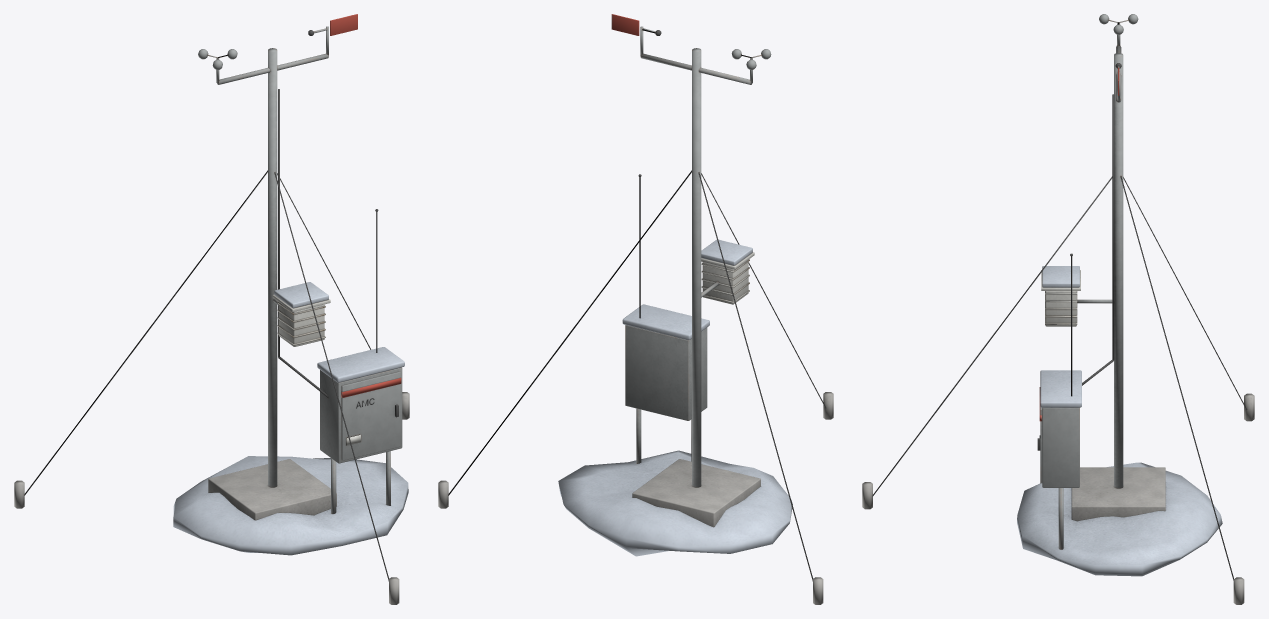
The model's file is ams_post.glb.
The picture shows the model from 3 angles, left to right: view 1: azimuth 30°, elevation 25°; view 2: azimuth 150°, elevation 25°; view 3: azimuth 270°, elevation 25°; orthographic projection.
Visible parts, largest first — view 1: ams_post; view 2: ams_post; view 3: ams_post.
Part boxes in pixels (<box>): ams_post: <box>14,14,409,604</box>; ams_post: <box>438,14,833,604</box>; ams_post: <box>862,14,1254,604</box>.
Size of the model in its own units: 4.24 by 5.19 by 3.75.
1 material, 1 textured.
